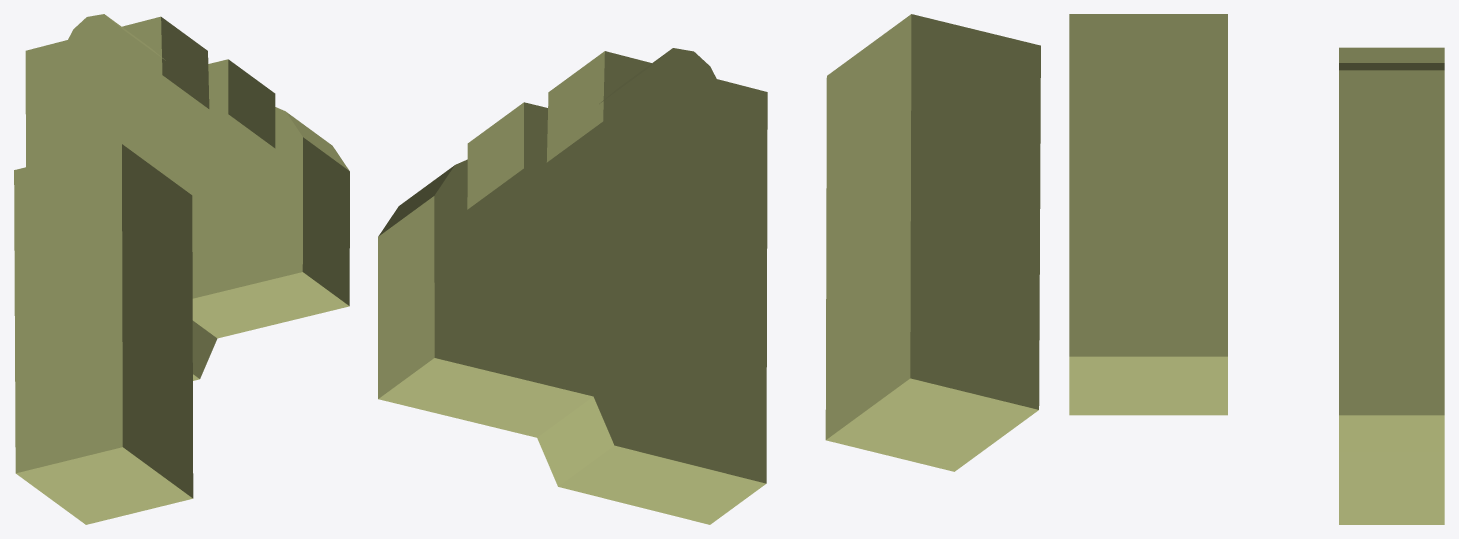
3 views of the same model, side by side, from view 1: azimuth 30°, elevation 25°; view 2: azimuth 150°, elevation 25°; view 3: azimuth 270°, elevation 25° (orthographic). The views are drawn at different scales.
Parts seen in each view (by area): view 1: 0_0_1_1_2_0_2_0; view 2: 0_0_1_1_2_0_2_0; view 3: 0_0_1_1_2_0_2_0.
Boxes of the visible parts, left/top/right/bottom form: 0_0_1_1_2_0_2_0: left=14, top=14, right=349, bottom=524; 0_0_1_1_2_0_2_0: left=378, top=14, right=1040, bottom=524; 0_0_1_1_2_0_2_0: left=1069, top=14, right=1444, bottom=524.
Bounding box in the file's own units: 28.41 × 24.34 × 21.3.
